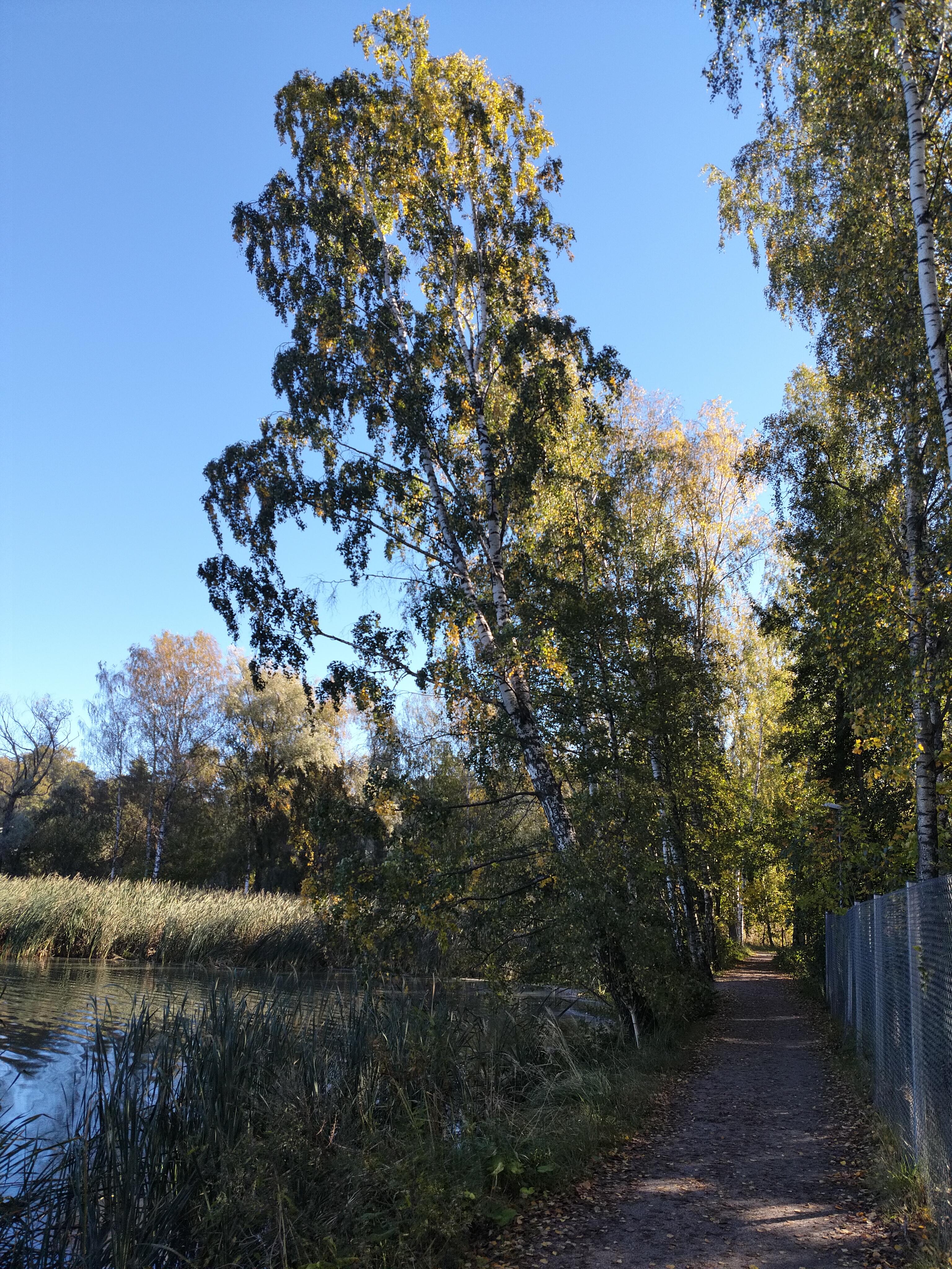Birch: (196, 3, 771, 1052)
